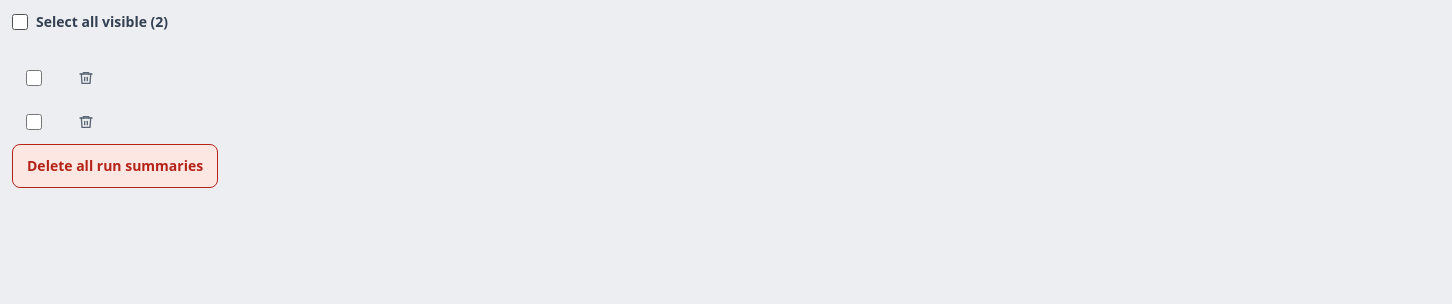
RunHistoryAdminControls › selects and clears every visible run from the select-all control
Click the checkbox named "Select all visible runs" at [20, 22], box top-left (12, 14), bottom-right (28, 30)
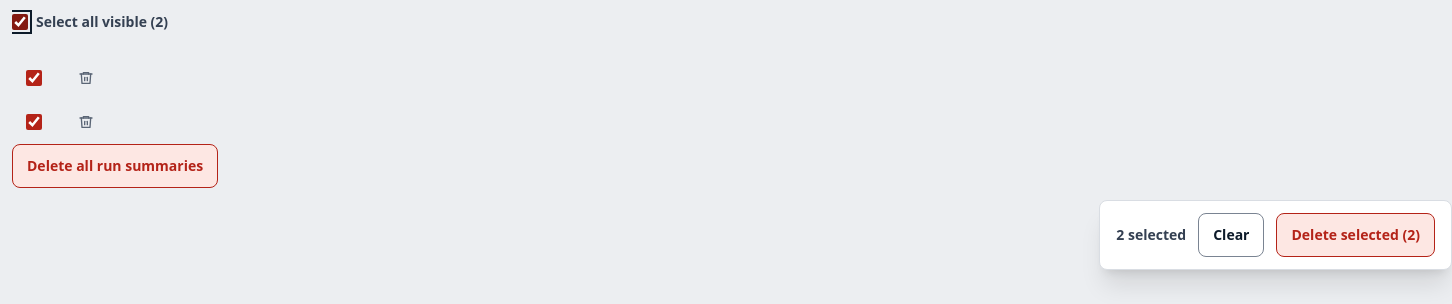
Now the button "Delete selected (2)" is shown, box top-left (1276, 213), bottom-right (1435, 257)
Click the checkbox named "Select all visible runs" at [20, 22], box top-left (12, 14), bottom-right (28, 30)
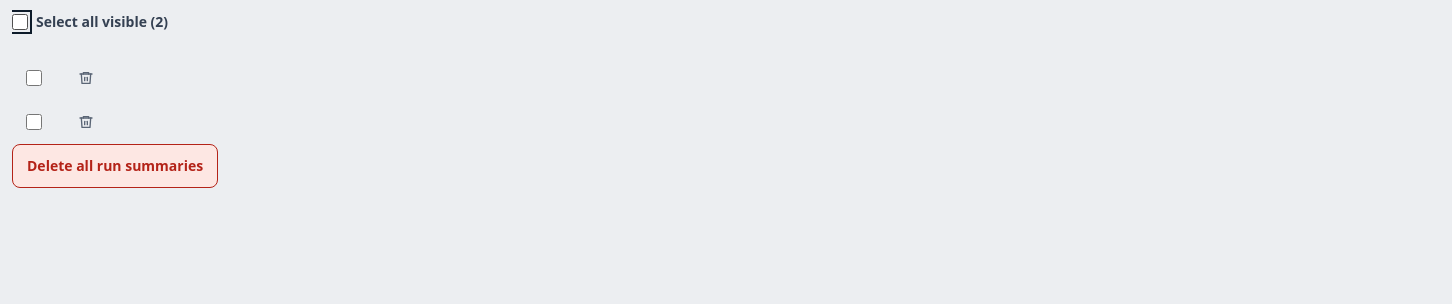
Now the button "Delete selected" is gone
